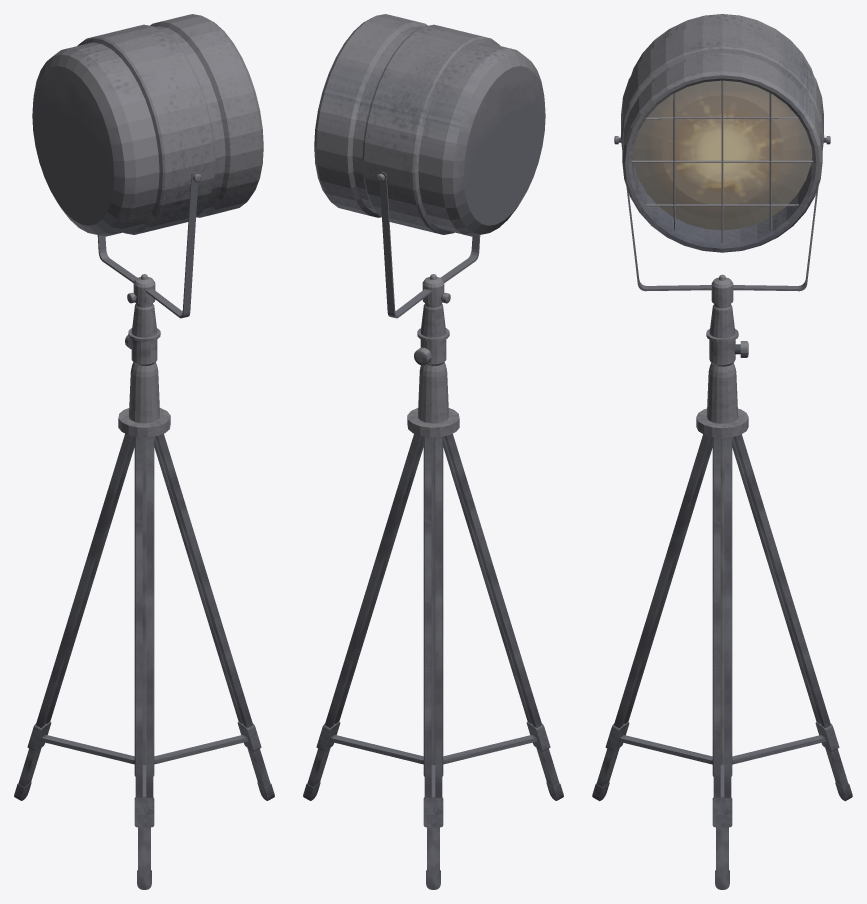
Rendered from Spotlight.fbx.
The picture shows the model from 3 angles, left to right: view 1: azimuth 30°, elevation 25°; view 2: azimuth 150°, elevation 25°; view 3: azimuth 270°, elevation 25°; orthographic projection.
Visible parts, largest first — view 1: Spotlight; view 2: Spotlight; view 3: Spotlight.
Part boxes in pixels (x1,y1,x2,y2): Spotlight: [14, 14, 274, 889]; Spotlight: [303, 14, 563, 889]; Spotlight: [592, 14, 852, 889].
Size of the model in its own units: 33.73 by 128 by 38.28.
